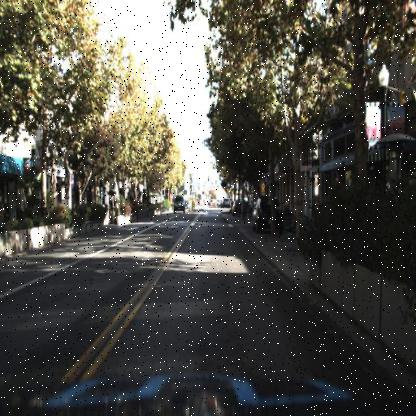car: (250, 195, 282, 236), (170, 190, 186, 216), (172, 194, 184, 213)
